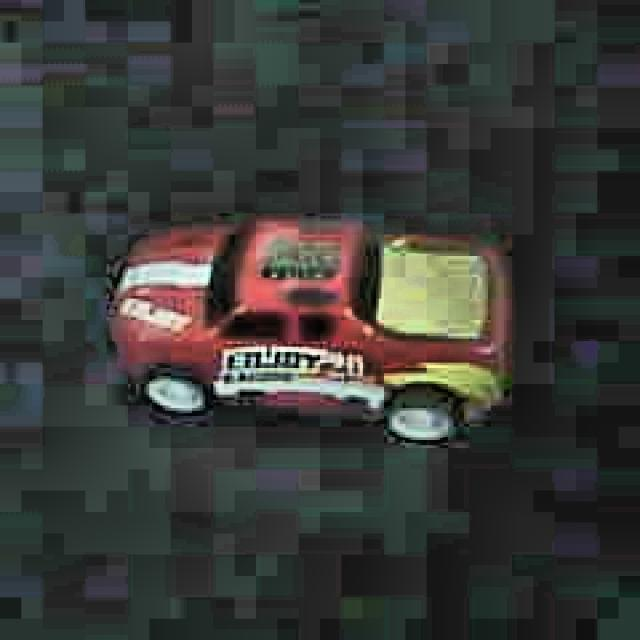car: (100, 208, 515, 447)
